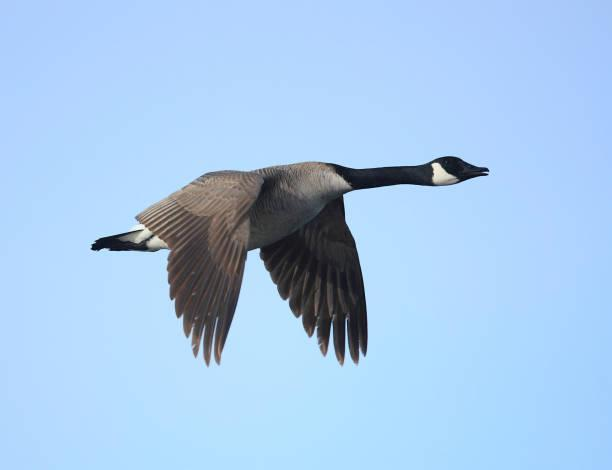Canadian-Goose: (85, 154, 492, 370)
